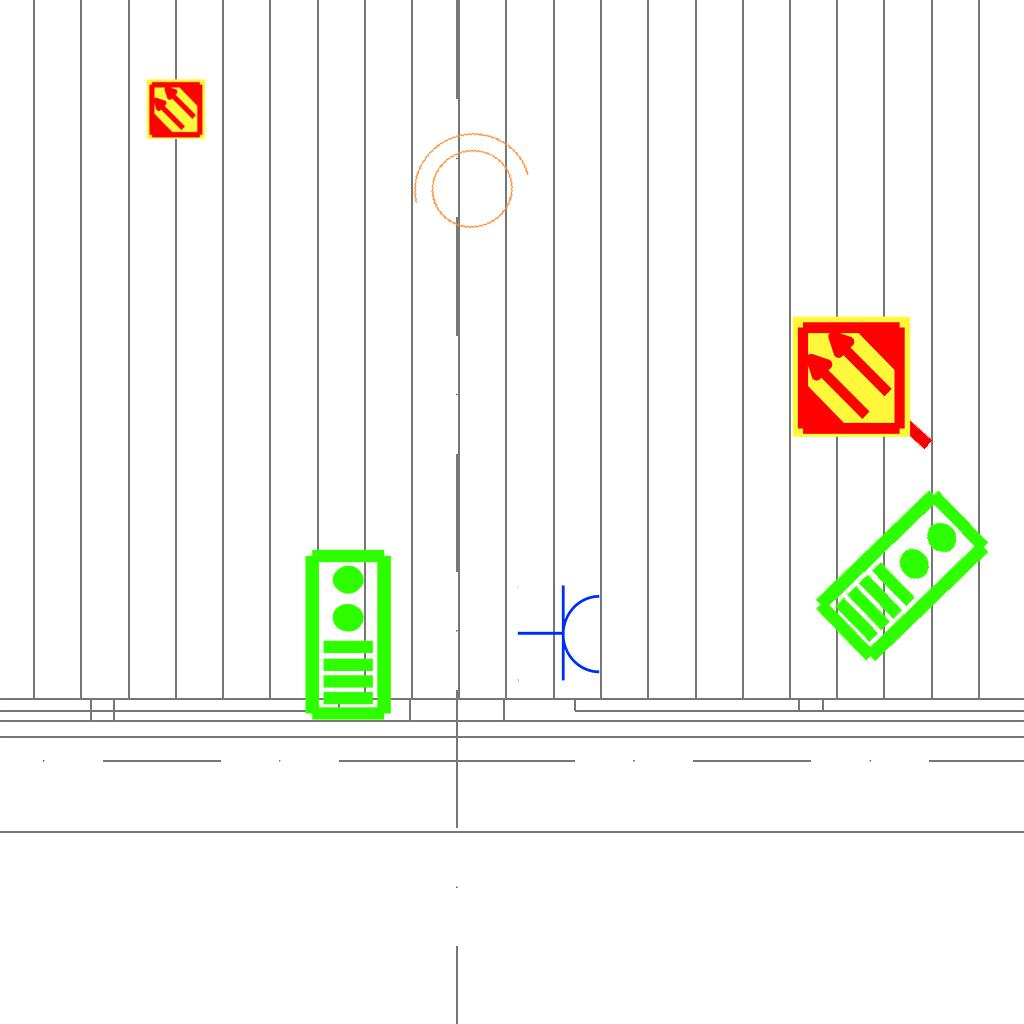ASR_Ansaugoeffnung: (788, 312, 950, 464)
ASR_Ansaugrauchmelder: (789, 314, 914, 439), (145, 78, 207, 140)
Gegensprechanlage_mit_Video: (805, 478, 998, 670), (299, 546, 394, 722)
Scheinwerfer_fuer_Alarmbeleuchtung: (390, 114, 546, 256)
Schukosteckdose_einfach: (517, 584, 604, 684)
